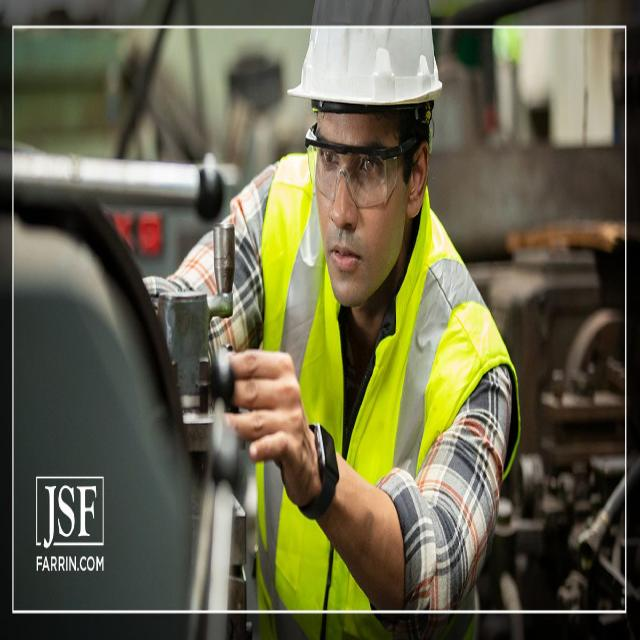goggles: (299, 116, 423, 211)
helmet: (284, 0, 450, 118)
vest: (265, 257, 463, 640)
